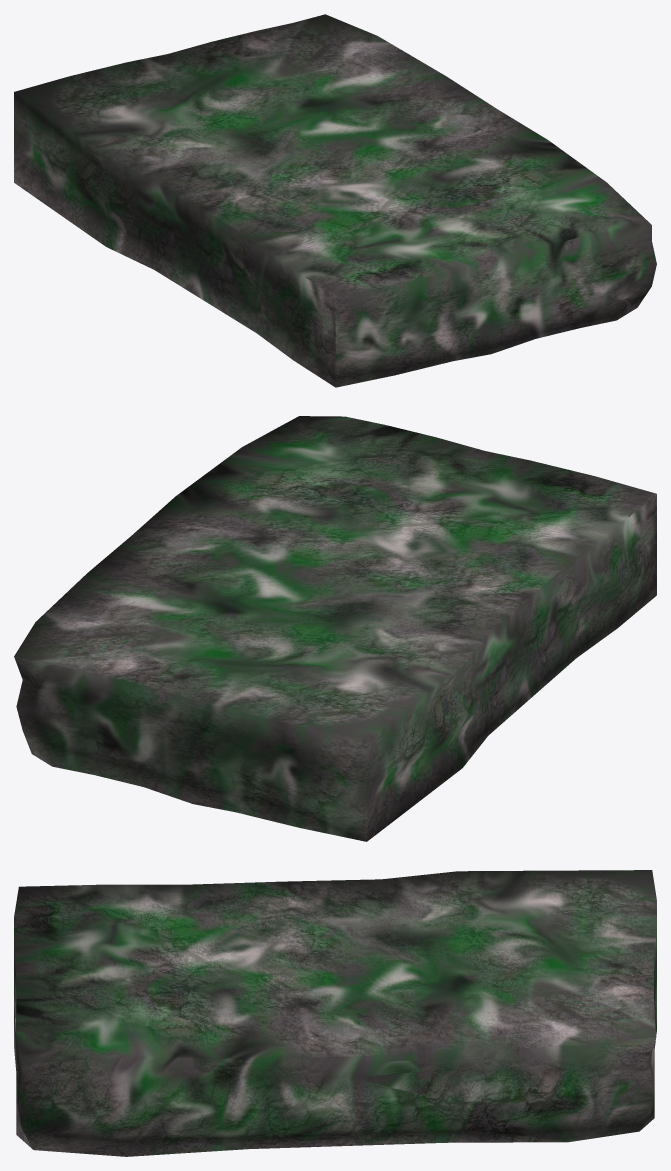
File: EnemyFloor.fbx
3 views of the same model, one above another, from view 1: azimuth 30°, elevation 25°; view 2: azimuth 150°, elevation 25°; view 3: azimuth 270°, elevation 25° (orthographic). The views are drawn at different scales.
Visible parts, largest first — view 1: CaveStone6; view 2: CaveStone6; view 3: CaveStone6.
Boxes of the visible parts, x1,y1,x2,y2 form: CaveStone6: (14,14,656,387); CaveStone6: (14,416,656,841); CaveStone6: (14,870,656,1156).
Size of the model in its own units: 2233 by 565 by 3152.
Materials: 1 (1 with a texture image).
